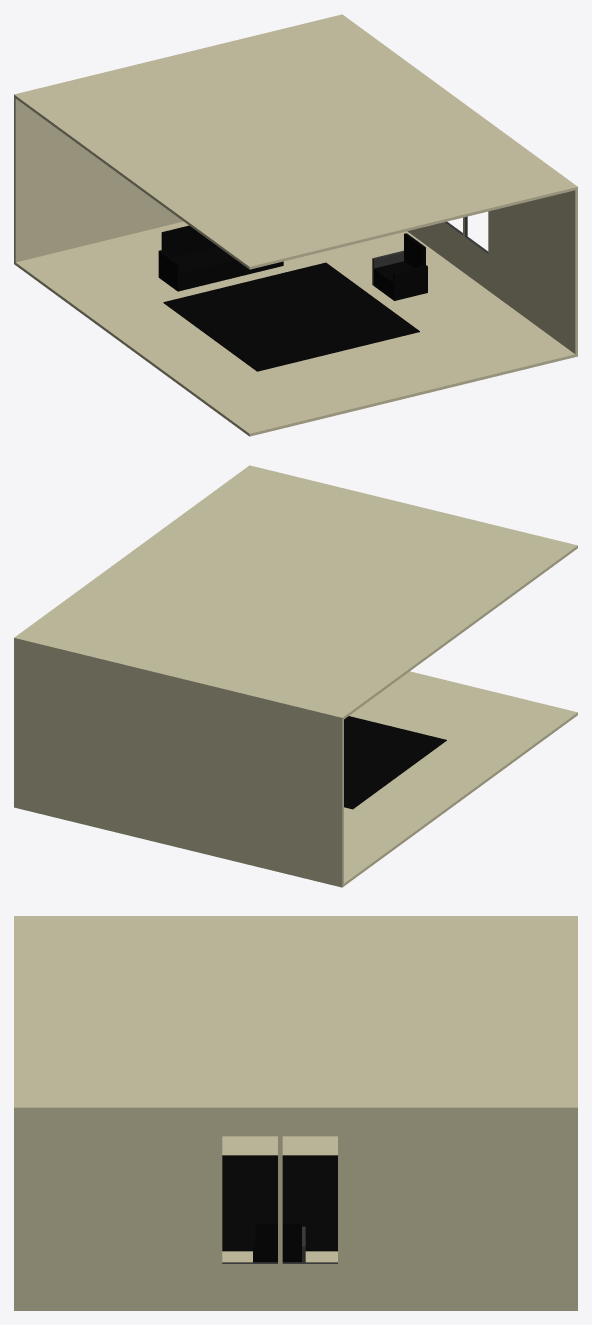
Rendered from ArsonistBox_002.fbx.
3 views of the same model, one above another, from view 1: azimuth 30°, elevation 25°; view 2: azimuth 150°, elevation 25°; view 3: azimuth 270°, elevation 25° (orthographic). The views are drawn at different scales.
Parts seen in each view (by area): view 1: BoxBrush4_3, BoxBrush, BoxBrush11, BoxBrush2, BoxBrush3, BoxBrush13, BoxBrush12, BoxBrush18, BoxBrush17, BoxBrush15, BoxBrush16; view 2: BoxBrush4_3, BoxBrush2, BoxBrush, BoxBrush11; view 3: BoxBrush4_3, BoxBrush3, BoxBrush11, BoxBrush, BoxBrush16.
Part boxes in pixels (left/top/right/bottom): BoxBrush4_3: left=14, top=14, right=577, bottom=269; BoxBrush: left=14, top=221, right=577, bottom=436; BoxBrush11: left=163, top=262, right=419, bottom=371; BoxBrush2: left=14, top=97, right=183, bottom=263; BoxBrush3: left=407, top=189, right=577, bottom=355; BoxBrush13: left=173, top=247, right=280, bottom=290; BoxBrush12: left=161, top=225, right=218, bottom=258; BoxBrush18: left=393, top=265, right=427, bottom=300; BoxBrush17: left=374, top=261, right=413, bottom=299; BoxBrush15: left=158, top=250, right=180, bottom=291; BoxBrush16: left=404, top=233, right=425, bottom=267; BoxBrush4_3: left=14, top=465, right=577, bottom=720; BoxBrush2: left=16, top=641, right=343, bottom=885; BoxBrush: left=14, top=671, right=577, bottom=887; BoxBrush11: left=344, top=716, right=446, bottom=809; BoxBrush4_3: left=14, top=916, right=577, bottom=1111; BoxBrush3: left=14, top=1111, right=577, bottom=1309; BoxBrush11: left=222, top=1155, right=337, bottom=1251; BoxBrush: left=14, top=1136, right=577, bottom=1310; BoxBrush16: left=255, top=1222, right=301, bottom=1262.
Bounding box in the file's own units: 490 × 609 × 242.
